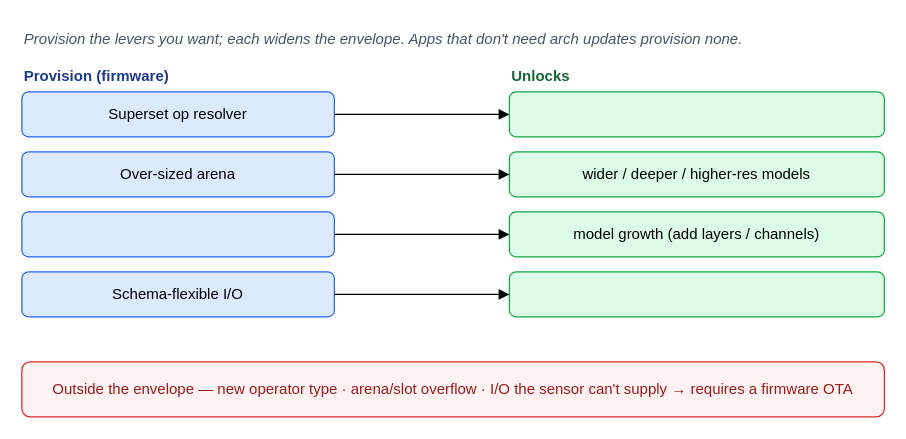
Image size: 906x439. Some labels were removed from this diagram. The shapes that lost their labels are listed below. From the top down, each one's centre as x and y in pixels, then its label:
[696,114]: new operator types
[177,234]: Slot sized for largest model
[696,294]: added classes · new input resolution
